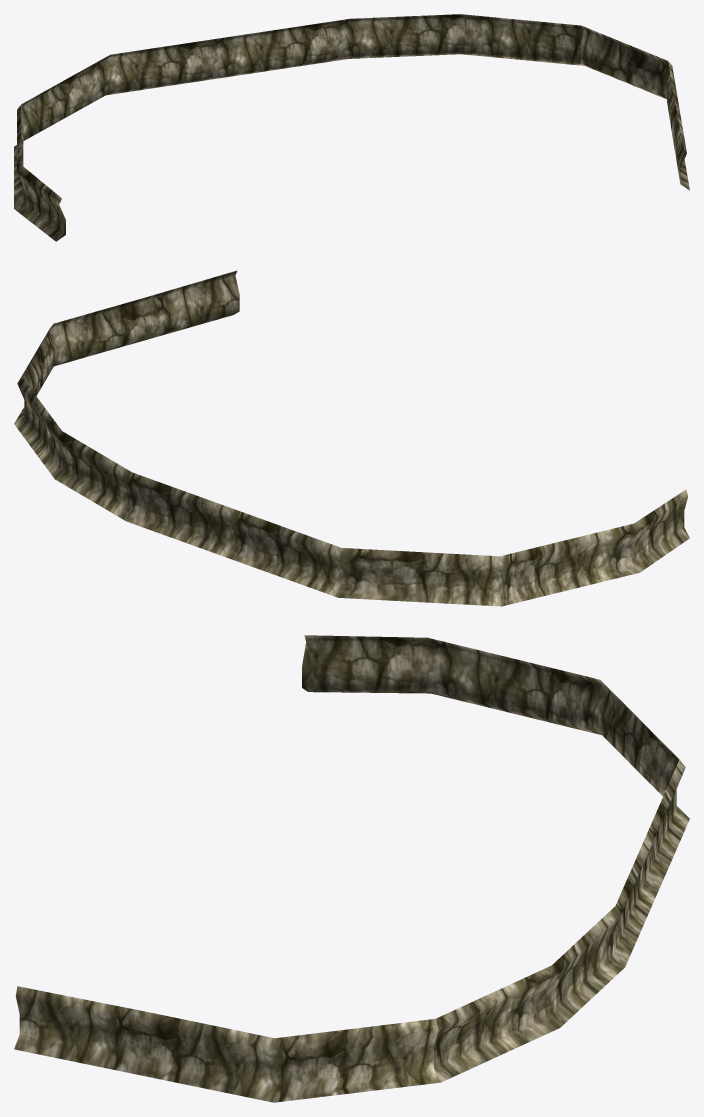
File: CB_NEWPLAYSURFACE_CB_PLAYSURFACE125.fbx
3 renders of one model, top to bottom at view 1: azimuth 30°, elevation 25°; view 2: azimuth 150°, elevation 25°; view 3: azimuth 270°, elevation 25°, orthographic. The views are drawn at different scales.
Visible parts, largest first — view 1: CB_NEWPLAYSURFACE_CB_PLAYSURFACE125; view 2: CB_NEWPLAYSURFACE_CB_PLAYSURFACE125; view 3: CB_NEWPLAYSURFACE_CB_PLAYSURFACE125.
Boxes of the visible parts, left/top/right/bottom form: CB_NEWPLAYSURFACE_CB_PLAYSURFACE125: left=14, top=14, right=689, bottom=241; CB_NEWPLAYSURFACE_CB_PLAYSURFACE125: left=14, top=270, right=689, bottom=606; CB_NEWPLAYSURFACE_CB_PLAYSURFACE125: left=14, top=635, right=689, bottom=1102.
Bounding box in the file's own units: 433665 × 29557 × 301688.
Materials: 1 (1 with a texture image).
